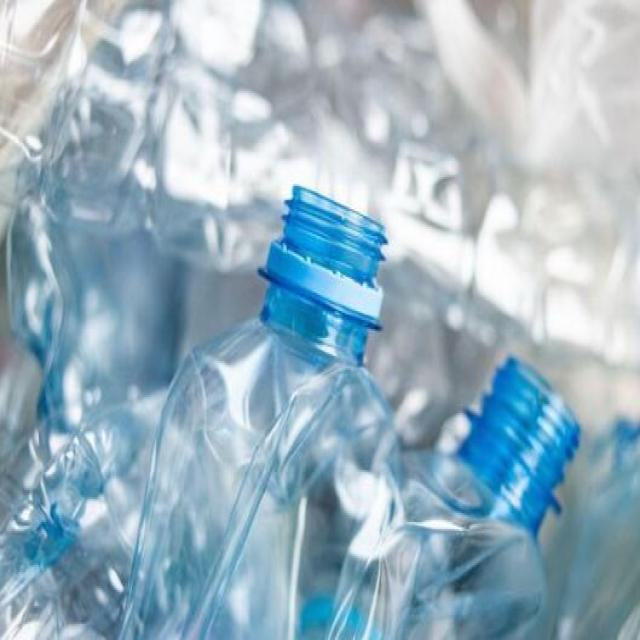general: (116, 182, 400, 638), (399, 357, 582, 638)
